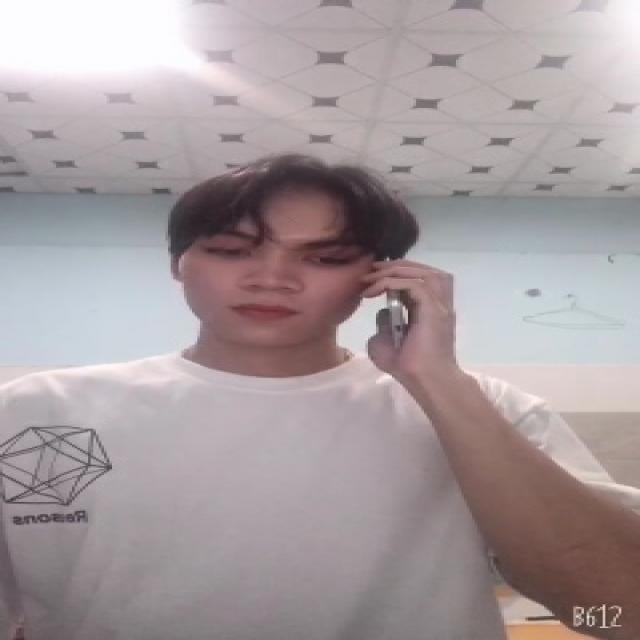Phone: (379, 252, 418, 350)
